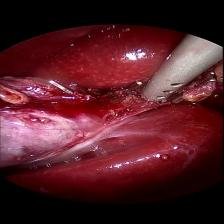Irrigator: (136, 66, 194, 104)
